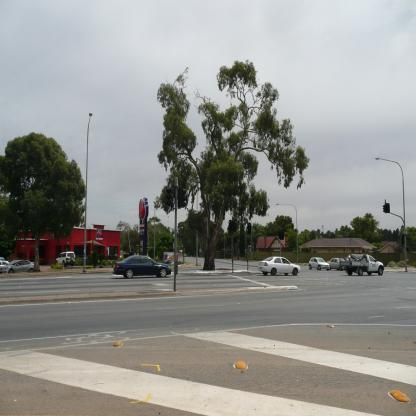car: (116, 251, 168, 275), (348, 250, 386, 274), (262, 252, 296, 276), (0, 254, 34, 272), (58, 248, 72, 264), (310, 256, 323, 269), (330, 259, 342, 266)
